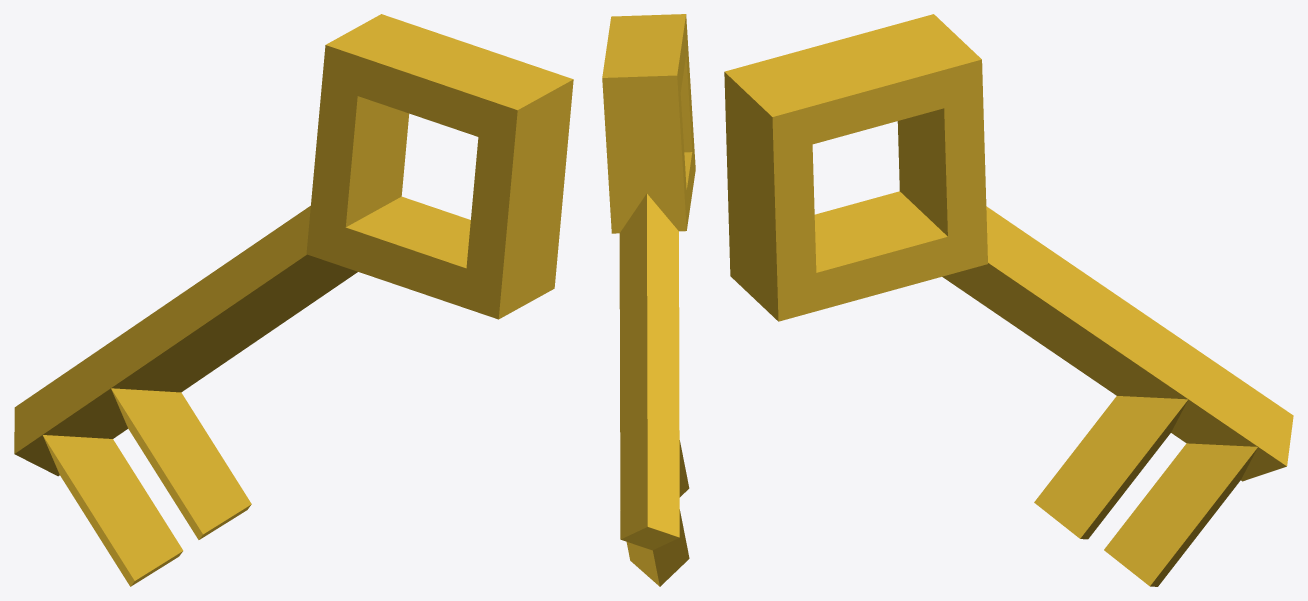
Rendered from Key.fbx.
The picture shows the model from 3 angles, left to right: view 1: azimuth 30°, elevation 25°; view 2: azimuth 150°, elevation 25°; view 3: azimuth 270°, elevation 25°; orthographic projection. The views are drawn at different scales.
Visible parts, largest first — view 1: Cube.002; view 2: Cube.002; view 3: Cube.002.
Part boxes in pixels (<box>): Cube.002: <box>14,14,573,586</box>; Cube.002: <box>602,14,695,586</box>; Cube.002: <box>724,14,1293,586</box>.
Bounding box in the file's own units: 328 × 577 × 484.
